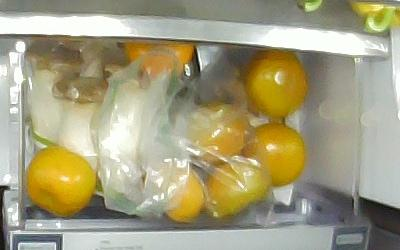persimmon: (25, 146, 95, 218), (244, 50, 309, 119)
persimmon_vinyl: (184, 102, 253, 164), (201, 160, 272, 219), (243, 123, 307, 188), (157, 162, 204, 225), (124, 41, 195, 80)
